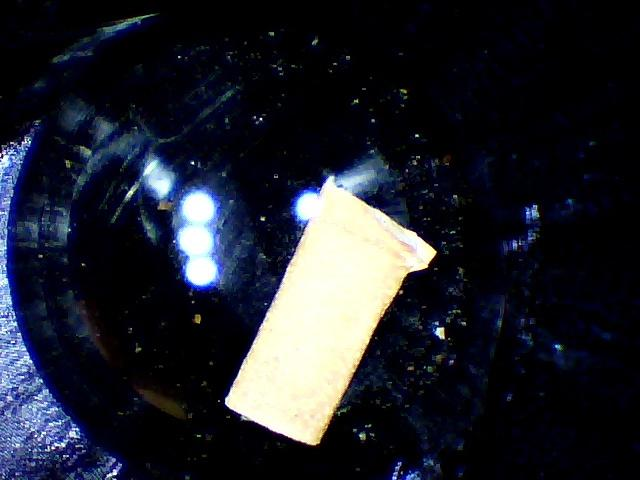megot: (204, 171, 451, 452)
